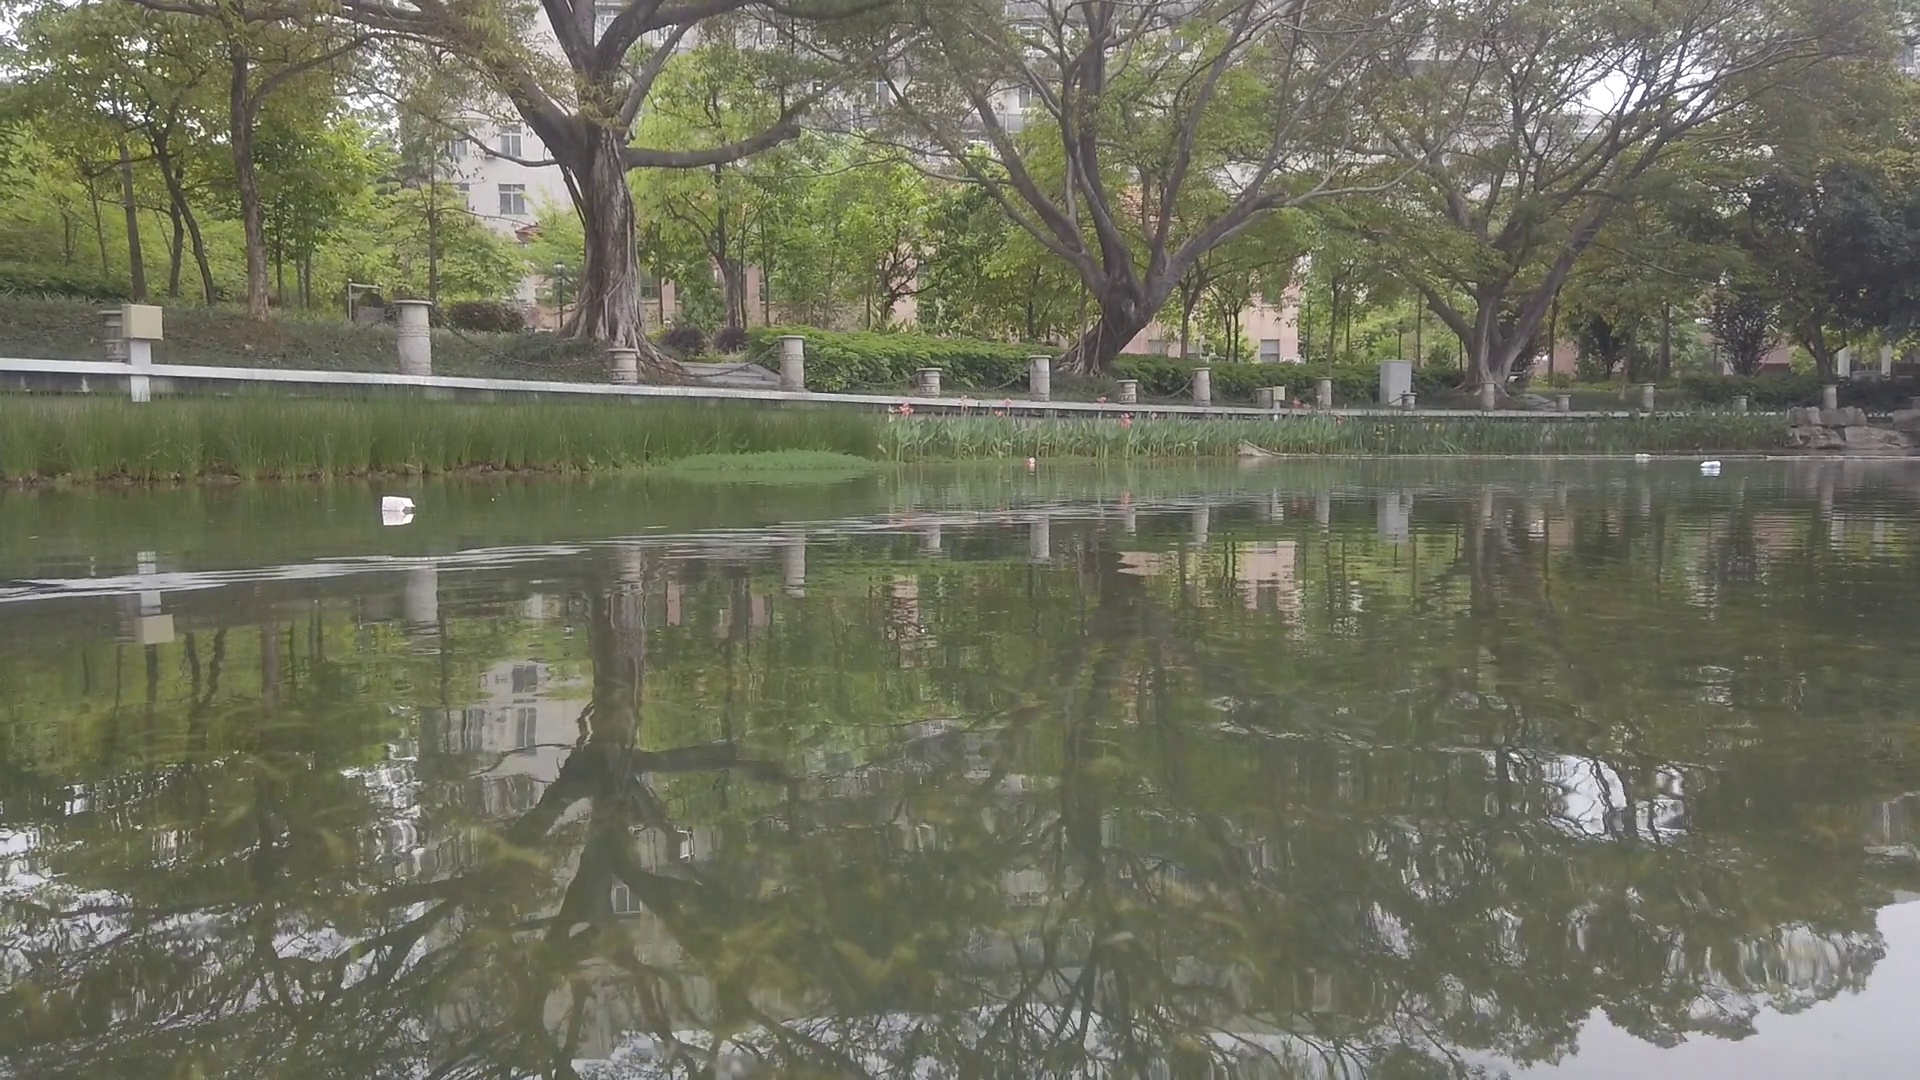bottle: (1636, 452, 1654, 462), (1701, 462, 1724, 468), (1029, 458, 1035, 464)
carton: (380, 496, 414, 513)
